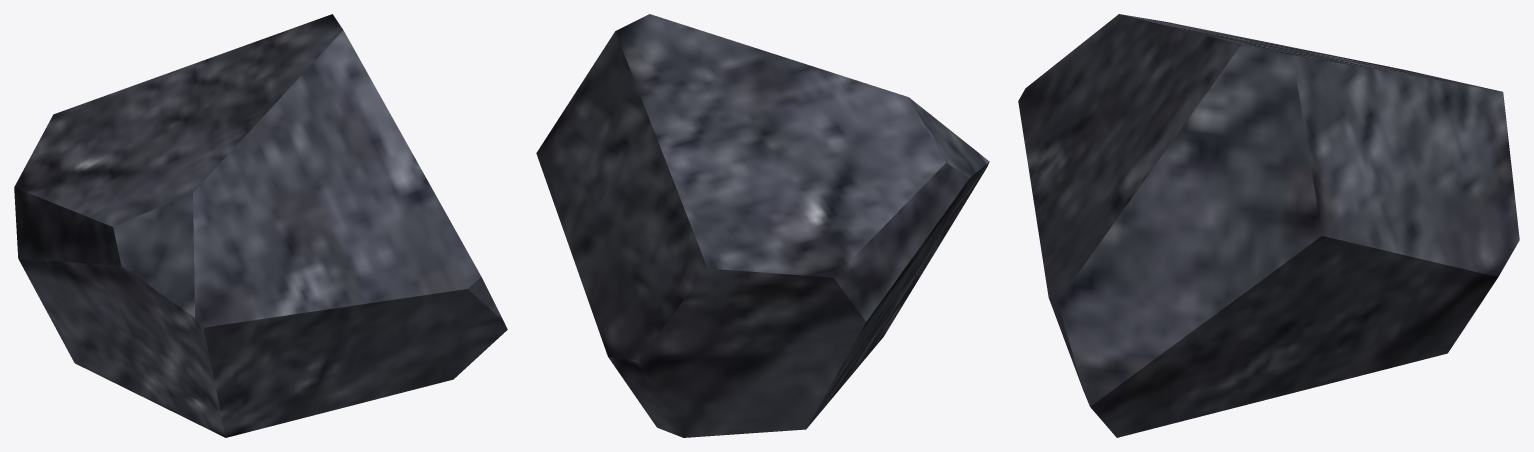
The picture shows the model from 3 angles, left to right: view 1: azimuth 30°, elevation 25°; view 2: azimuth 150°, elevation 25°; view 3: azimuth 270°, elevation 25°; orthographic projection. The views are drawn at different scales.
Parts seen in each view (by area): view 1: 对象809; view 2: 对象809; view 3: 对象809.
Part boxes in pixels (box(x1,y1,x2,y2)): 对象809: box(14, 14, 507, 437); 对象809: box(536, 14, 989, 437); 对象809: box(1018, 14, 1519, 437).
Bounding box in the file's own units: 0.8526 × 0.7137 × 0.8923.
1 material, 1 textured.
